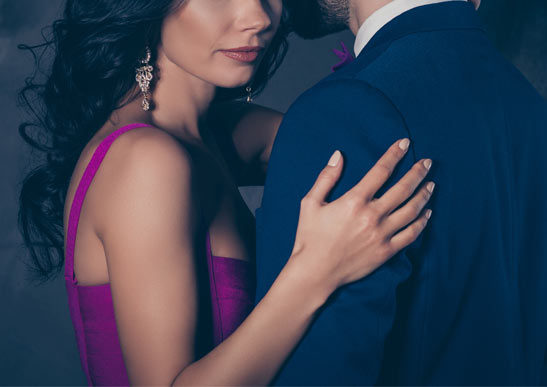face: (162, 1, 282, 88)
hand: (307, 135, 454, 279)
